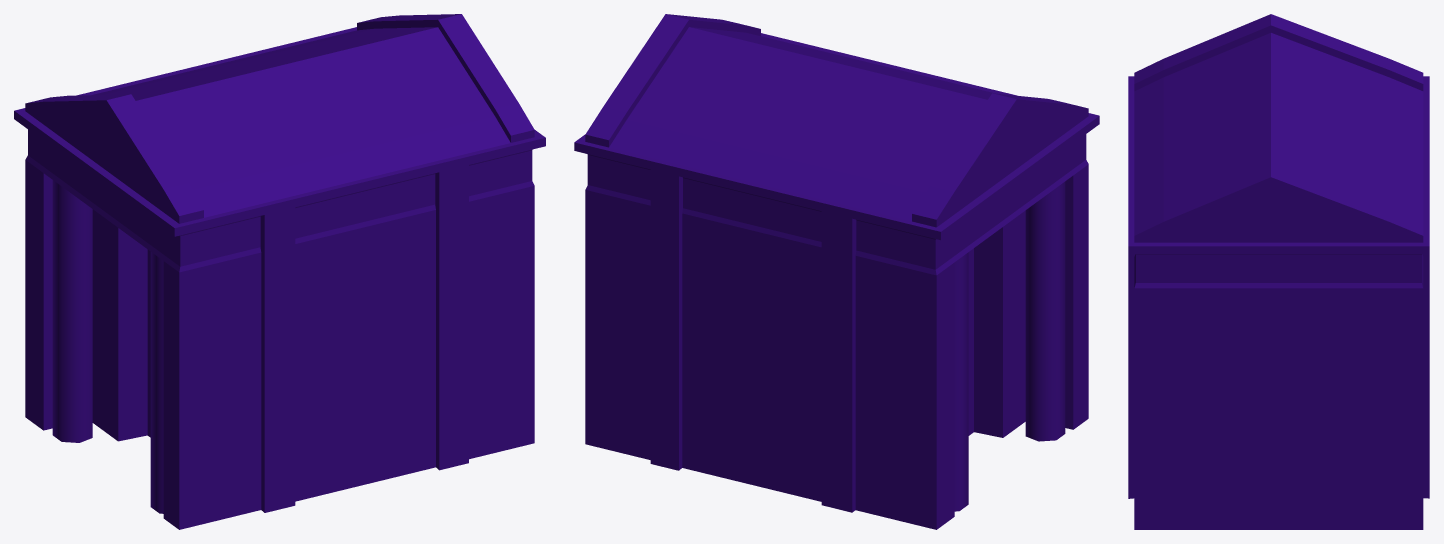
Rendered from mausolium.obj.
3 views of the same model, side by side, from view 1: azimuth 30°, elevation 25°; view 2: azimuth 150°, elevation 25°; view 3: azimuth 270°, elevation 25° (orthographic). The views are drawn at different scales.
Parts seen in each view (by area): view 1: Box001; view 2: Box001; view 3: Box001.
Boxes of the visible parts, x1,y1,x2,y2 form: Box001: (14, 14, 545, 529); Box001: (574, 14, 1099, 529); Box001: (1128, 14, 1429, 529).
Bounding box in the file's own units: 411 × 400 × 308.
